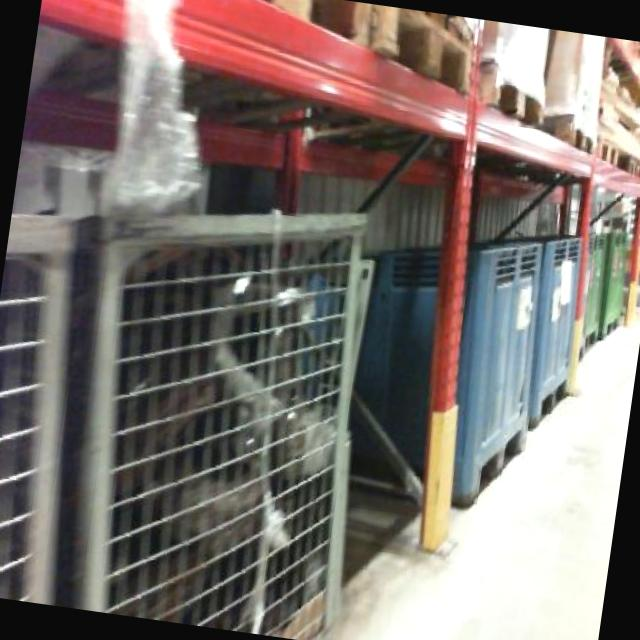pallet: (356, 3, 486, 82), (456, 415, 543, 498), (464, 78, 560, 128), (525, 372, 577, 423)
